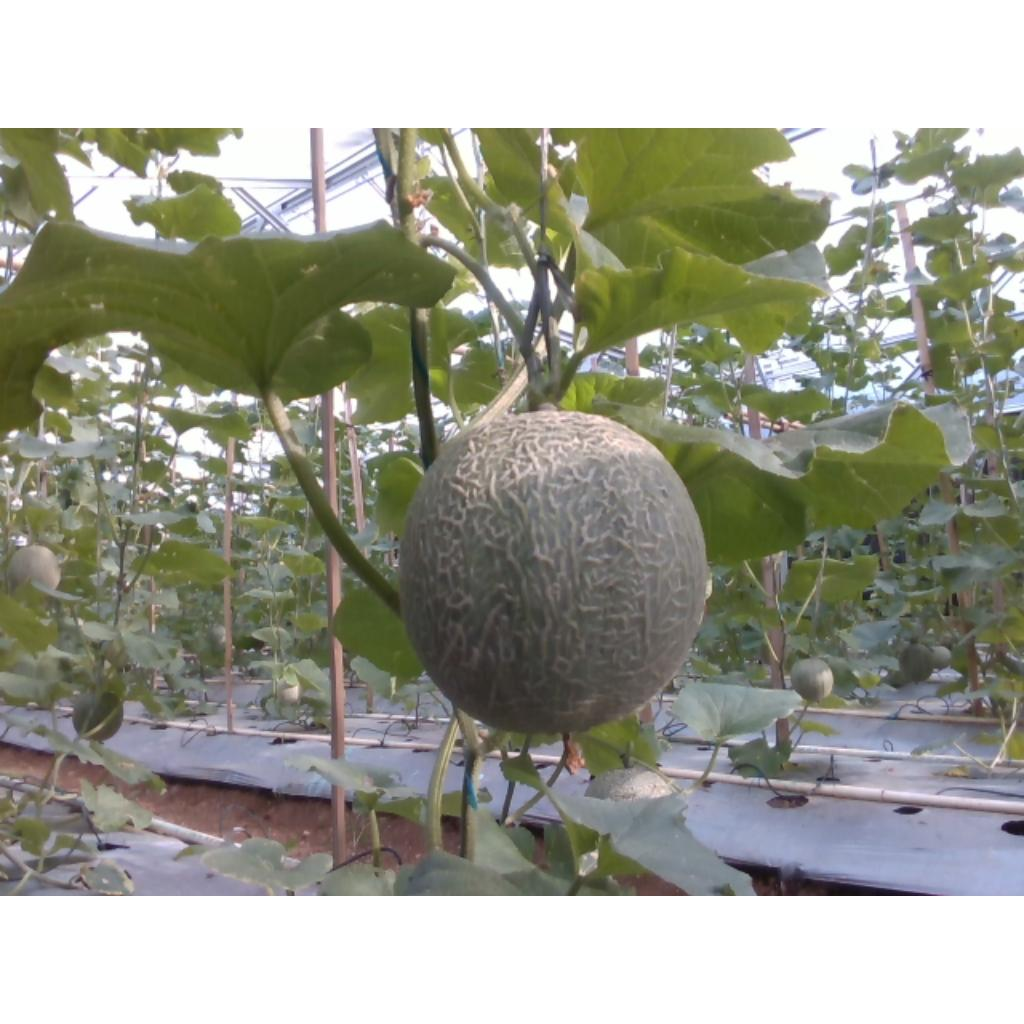melon: (402, 410, 710, 734)
